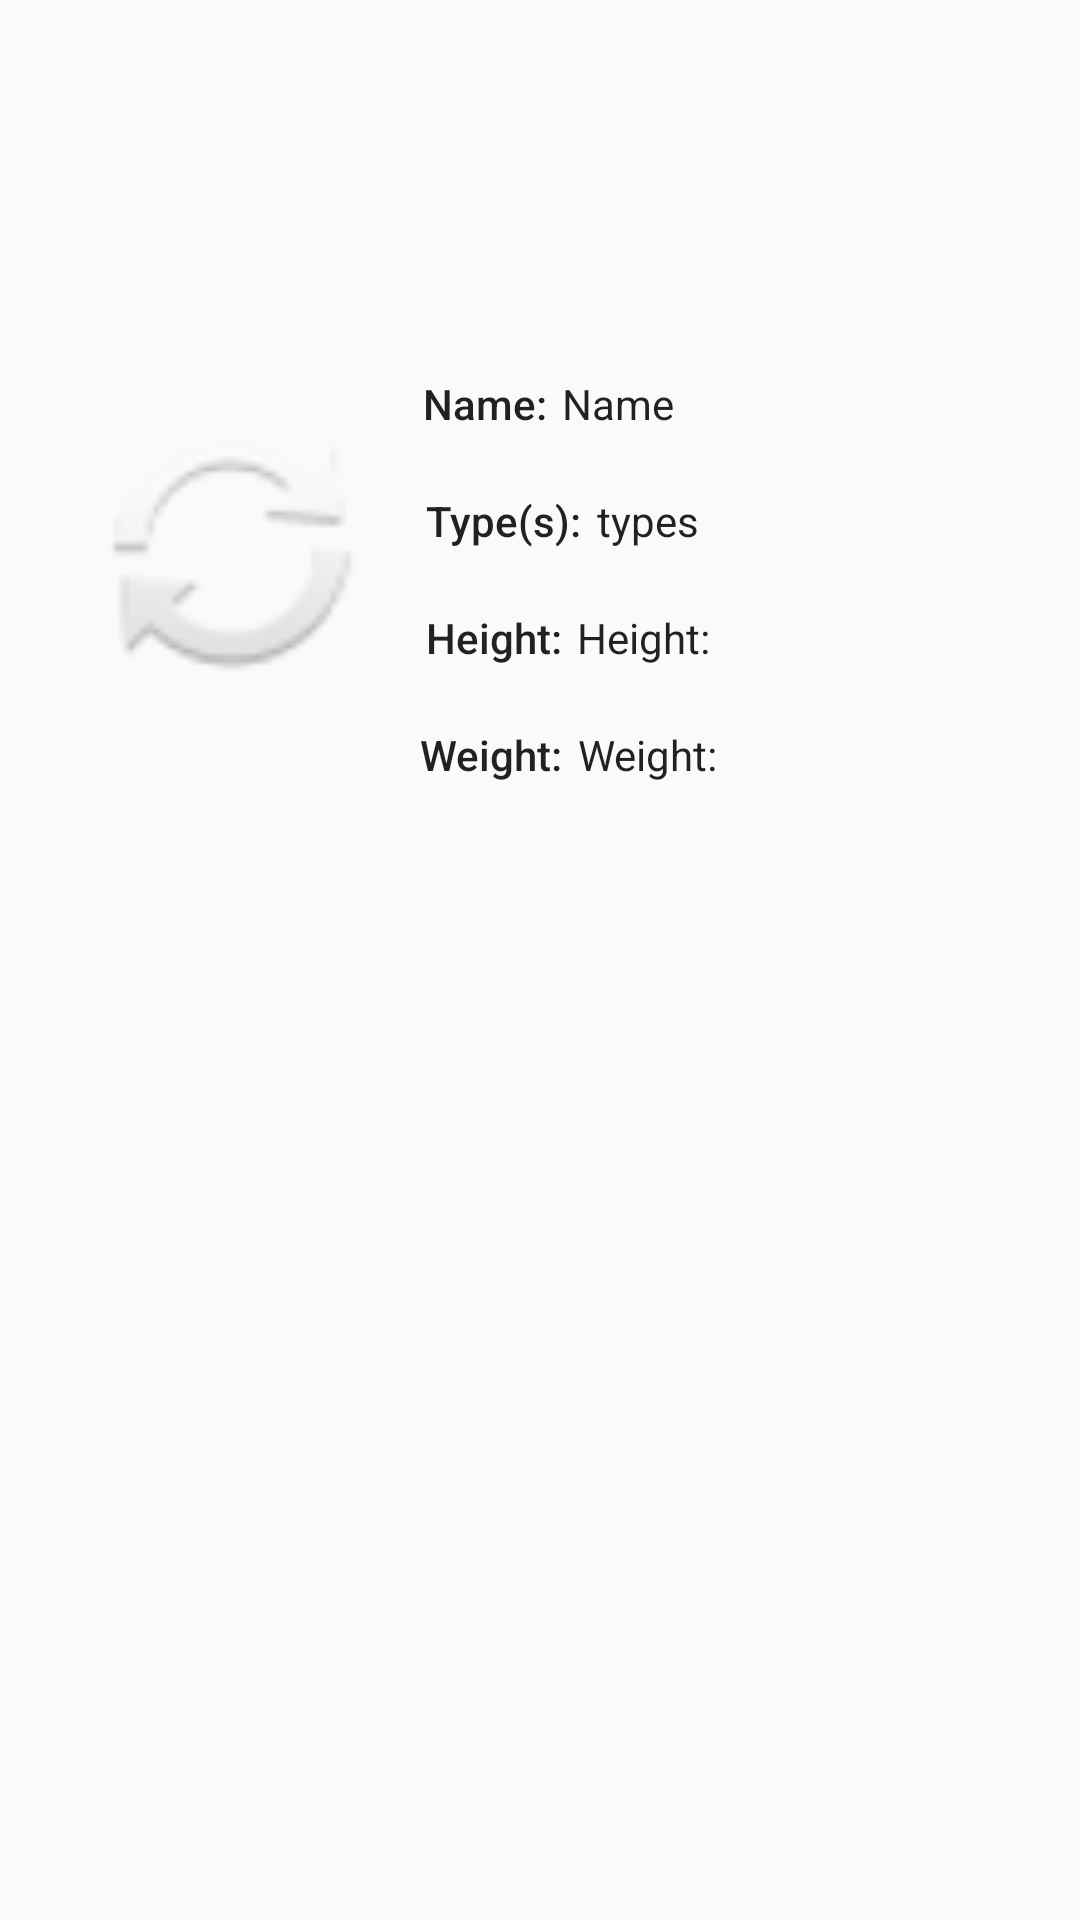

Icons on this 1080 x 1920 Android screen, each with the point to tap as (x,y):
popup sync: (228,564)
